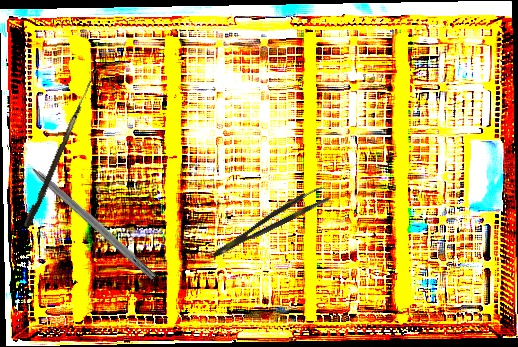Hook Surgical: (14, 150, 159, 281), (23, 66, 97, 230)
Tissue Forceps: (207, 184, 331, 259)
